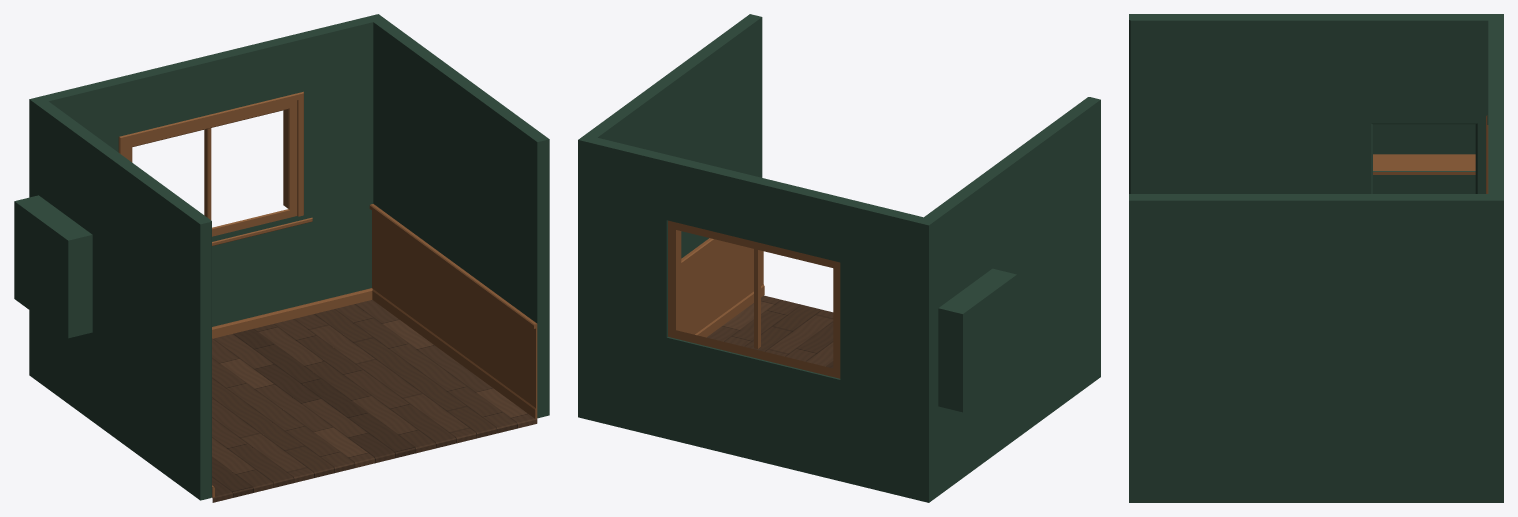
File: room_model.glb
3 views of the same model, side by side, from view 1: azimuth 30°, elevation 25°; view 2: azimuth 150°, elevation 25°; view 3: azimuth 270°, elevation 25° (orthographic). The views are drawn at different scales.
Visible parts, largest first — view 1: room_wall_left, room_wall_right, room_wall_front, room_floor, window_frame, room_baseboard; view 2: room_wall_front, room_wall_left, room_wall_right, window_frame, room_floor, room_baseboard; view 3: room_wall_right, room_wall_left, room_wall_front.
Boxes of the visible parts, x1,y1,x2,y2 form: room_wall_left: (14, 101, 211, 500); room_wall_right: (369, 19, 549, 418); room_wall_front: (29, 14, 384, 379); room_floor: (212, 300, 537, 502); window_frame: (118, 91, 312, 245); room_baseboard: (212, 288, 537, 497); room_wall_front: (578, 134, 935, 502); room_wall_left: (924, 97, 1100, 497); room_wall_right: (585, 14, 763, 334); window_frame: (668, 220, 840, 378); room_floor: (707, 295, 833, 368); room_baseboard: (695, 284, 764, 337); room_wall_right: (1129, 194, 1488, 502); room_wall_left: (1129, 14, 1488, 193); room_wall_front: (1488, 14, 1503, 502).
Size of the model in its own units: 3.68 by 2.65 by 2.92.
3 materials, 1 textured.
